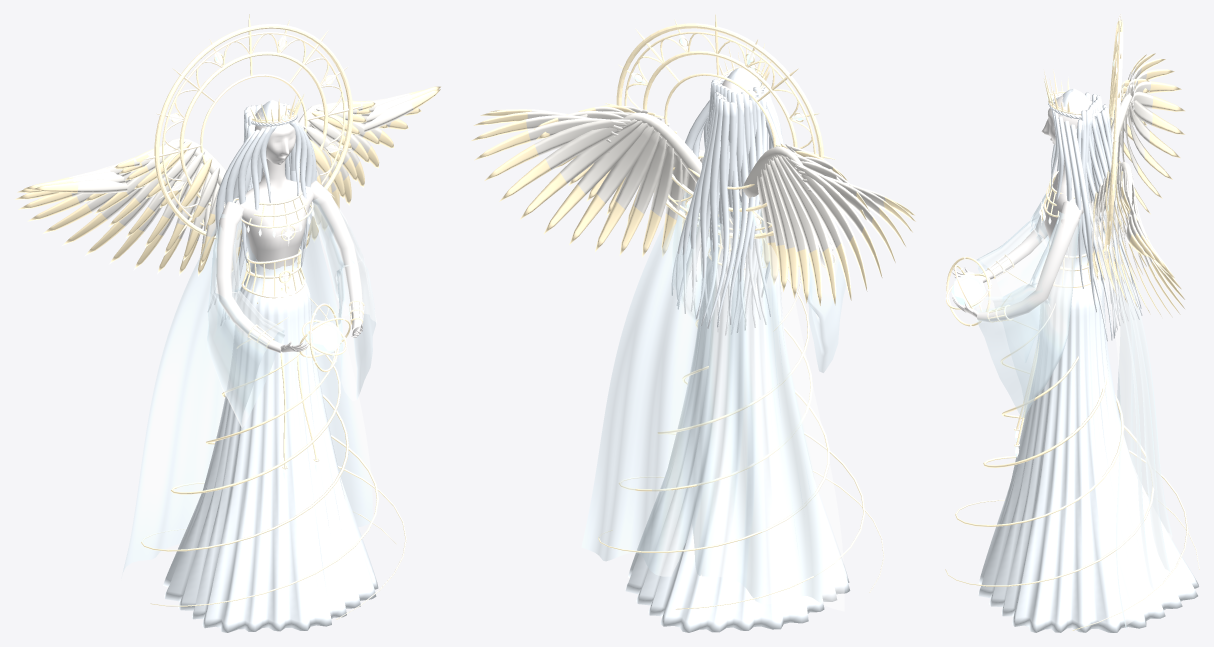
The model's file is mentor_alatea.glb.
3 renders of one model, left to right at view 1: azimuth 30°, elevation 25°; view 2: azimuth 150°, elevation 25°; view 3: azimuth 270°, elevation 25°, orthographic. The views are drawn at different scales.
Parts seen in each view (by area): view 1: Alatea_Robe, Alatea_SilkVeil, Alatea_Wings, Alatea_Skin, AlateaHalo_Mesh, Alatea_Hair, Gold_Threads, Gold_Regalia, Gold_Gorget, FateOrb_Astrolabe, FateOrb_Core; view 2: Alatea_SilkVeil, Alatea_Robe, Alatea_Wings, Alatea_Hair, AlateaHalo_Mesh, Gold_Threads; view 3: Alatea_Robe, Alatea_SilkVeil, Alatea_Wings, Alatea_Hair, Alatea_Skin, Gold_Threads, AlateaHalo_Mesh, Gold_Regalia, FateOrb_Astrolabe, FateOrb_Core, Gold_Crown, Gold_Gorget.
Part boxes in pixels (x1,y1,x2,y2): Alatea_Robe: (163, 225, 378, 632); Alatea_SilkVeil: (122, 189, 376, 574); Alatea_Wings: (15, 86, 440, 276); Alatea_Skin: (216, 108, 362, 353); AlateaHalo_Mesh: (143, 14, 364, 241); Alatea_Hair: (207, 100, 316, 325); Gold_Threads: (141, 297, 406, 619); Gold_Regalia: (241, 248, 364, 479); Gold_Gorget: (233, 182, 314, 237); FateOrb_Astrolabe: (299, 303, 350, 372); FateOrb_Core: (308, 320, 341, 354); Alatea_SilkVeil: (581, 192, 847, 611); Alatea_Robe: (625, 205, 850, 632); Alatea_Wings: (471, 105, 915, 305); Alatea_Hair: (671, 67, 783, 335); AlateaHalo_Mesh: (605, 14, 835, 243); Gold_Threads: (598, 268, 884, 609); Alatea_Robe: (978, 213, 1198, 632); Alatea_SilkVeil: (976, 188, 1172, 628); Alatea_Wings: (1091, 53, 1185, 317); Alatea_Hair: (1048, 88, 1142, 341); Alatea_Skin: (952, 95, 1092, 322); Gold_Threads: (945, 270, 1199, 630); AlateaHalo_Mesh: (1103, 14, 1123, 257); Gold_Regalia: (987, 239, 1099, 457); FateOrb_Astrolabe: (945, 256, 991, 326); FateOrb_Core: (951, 275, 986, 308); Gold_Crown: (1043, 69, 1081, 114); Gold_Gorget: (1043, 171, 1074, 224).
Size of the model in its own units: 5.49 by 6.99 by 2.82.
